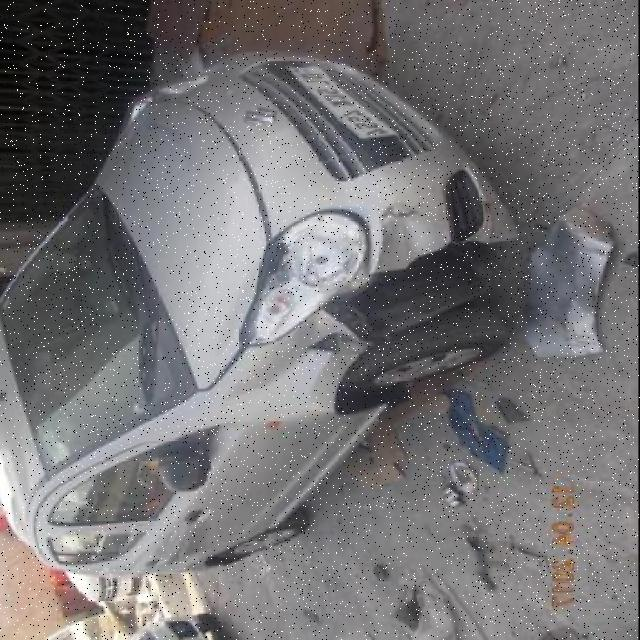damage: (322, 236, 527, 350), (224, 349, 336, 408), (372, 206, 453, 269), (255, 240, 293, 297), (308, 333, 356, 355), (379, 204, 426, 222)
